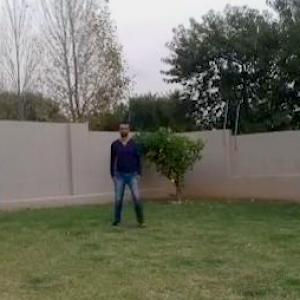follow: (110, 117, 138, 227)
